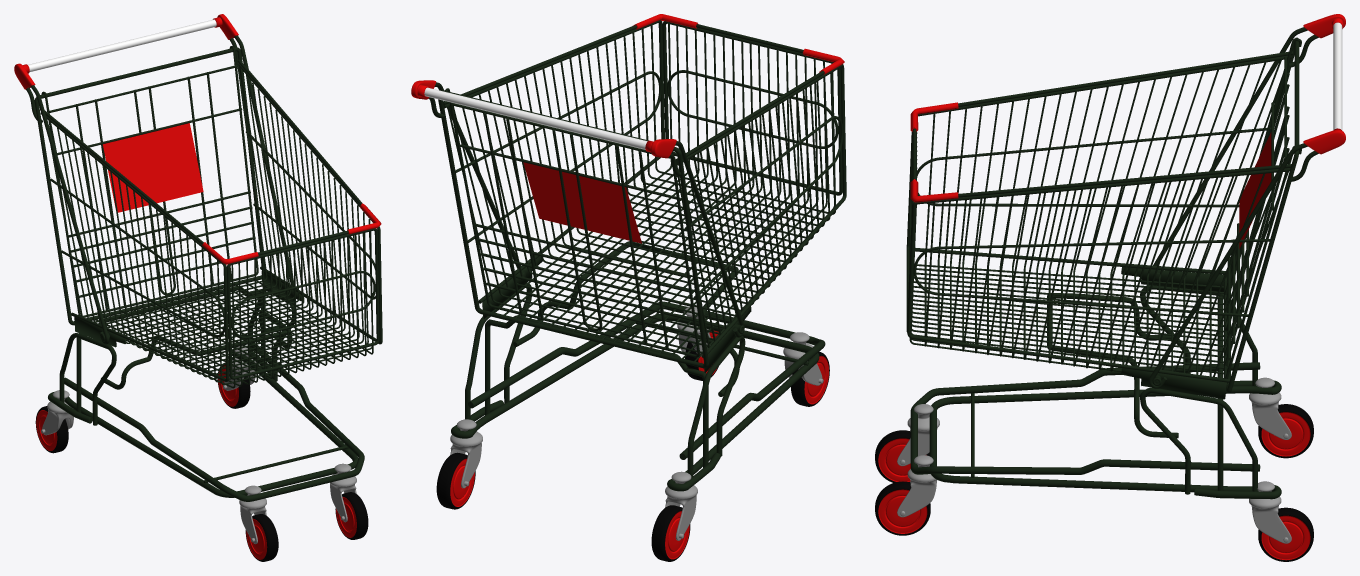
File: ShoppingTrolly.FBX
3 views of the same model, side by side, from view 1: azimuth 30°, elevation 25°; view 2: azimuth 150°, elevation 25°; view 3: azimuth 270°, elevation 25° (orthographic). The views are drawn at different scales.
Parts seen in each view (by area): view 1: Cart_Basket, Cart_Base, Cart_Door, Cart_HandleBar, Cart_Wheels_FrontWheels_FrontRightWheel_Holding3, Cart_Wheels_FrontWheels_FrontLeftWheel_Holding1, Cart_Wheels_BackWheels_BackRightWheel_Holding2, Cart_Handles, Cart_Wheels_FrontWheels_FrontRightWheel_Tyre3, Cart_Wheels_FrontWheels_FrontLeftWheel_Tyre1, Cart_Wheels_FrontWheels_FrontLeftWheel_Hub1, Cart_Wheels_FrontWheels_FrontRightWheel_Hub3; view 2: Cart_Basket, Cart_Base, Cart_Door, Cart_HandleBar, Cart_Wheels_BackWheels_BackLeftWheel_Holding, Cart_Wheels_BackWheels_BackRightWheel_Holding2, Cart_Wheels_BackWheels_BackRightWheel_Tyre2, Cart_Wheels_BackWheels_BackLeftWheel_Tyre, Cart_Handles, Cart_Wheels_FrontWheels_FrontRightWheel_Holding3, Cart_Wheels_BackWheels_BackLeftWheel_Hub, Cart_Wheels_BackWheels_BackRightWheel_Hub2 (+1 smaller); view 3: Cart_Basket, Cart_Base, Cart_Door, Cart_Wheels_BackWheels_BackRightWheel_Holding2, Cart_Wheels_BackWheels_BackLeftWheel_Holding, Cart_Wheels_FrontWheels_FrontLeftWheel_Holding1, Cart_Wheels_FrontWheels_FrontLeftWheel_Hub1, Cart_Wheels_BackWheels_BackRightWheel_Hub2, Cart_Wheels_BackWheels_BackLeftWheel_Hub, Cart_Handles, Cart_HandleBar, Cart_Wheels_FrontWheels_FrontRightWheel_Hub3 (+4 smaller).
Boxes of the visible parts, x1,y1,x2,y2 form: Cart_Basket: (26,35,382,388); Cart_Base: (48,286,364,501); Cart_Door: (41,46,258,317); Cart_HandleBar: (28,19,216,72); Cart_Wheels_FrontWheels_FrontRightWheel_Holding3: (239,485,266,543); Cart_Wheels_FrontWheels_FrontLeftWheel_Holding1: (330,463,356,522); Cart_Wheels_BackWheels_BackRightWheel_Holding2: (41,390,73,435); Cart_Handles: (14,14,238,89); Cart_Wheels_FrontWheels_FrontRightWheel_Tyre3: (245,514,278,561); Cart_Wheels_FrontWheels_FrontLeftWheel_Tyre1: (335,492,368,539); Cart_Wheels_FrontWheels_FrontLeftWheel_Hub1: (336,497,356,537); Cart_Wheels_FrontWheels_FrontRightWheel_Hub3: (246,518,267,559); Cart_Basket: (428,14,846,372); Cart_Base: (451,241,825,491); Cart_Door: (444,88,700,357); Cart_HandleBar: (424,87,647,149); Cart_Wheels_BackWheels_BackLeftWheel_Holding: (450,419,482,488); Cart_Wheels_BackWheels_BackRightWheel_Holding2: (665,471,697,540); Cart_Wheels_BackWheels_BackRightWheel_Tyre2: (651,505,690,561); Cart_Wheels_BackWheels_BackLeftWheel_Tyre: (436,452,475,509); Cart_Handles: (411,80,676,158); Cart_Wheels_FrontWheels_FrontRightWheel_Holding3: (783,332,823,385); Cart_Wheels_BackWheels_BackLeftWheel_Hub: (450,458,474,506); Cart_Wheels_BackWheels_BackRightWheel_Hub2: (665,511,689,559); Cart_Basket: (906,27,1318,399); Cart_Base: (910,285,1281,499); Cart_Door: (1224,38,1301,378); Cart_Wheels_BackWheels_BackRightWheel_Holding2: (1249,377,1291,439); Cart_Wheels_BackWheels_BackLeftWheel_Holding: (1249,481,1291,543); Cart_Wheels_FrontWheels_FrontLeftWheel_Holding1: (897,455,937,517); Cart_Wheels_FrontWheels_FrontLeftWheel_Hub1: (878,489,927,533); Cart_Wheels_BackWheels_BackRightWheel_Hub2: (1261,412,1310,456); Cart_Wheels_BackWheels_BackLeftWheel_Hub: (1261,515,1310,560); Cart_Handles: (1303,14,1345,154); Cart_HandleBar: (1333,22,1342,130); Cart_Wheels_FrontWheels_FrontRightWheel_Hub3: (878,438,926,481).
Size of the model in its own units: 60.55 by 103 by 101.
